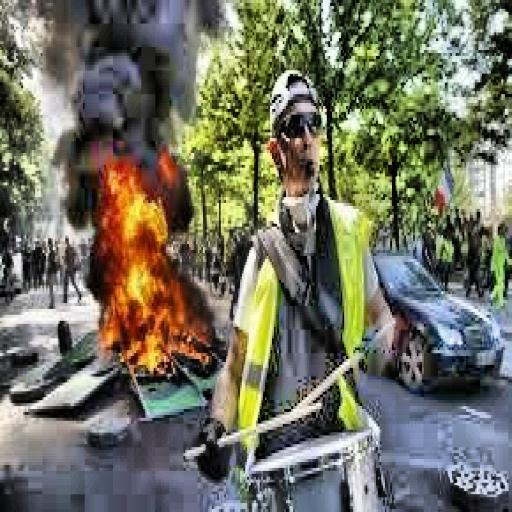fire: (78, 159, 219, 371)
